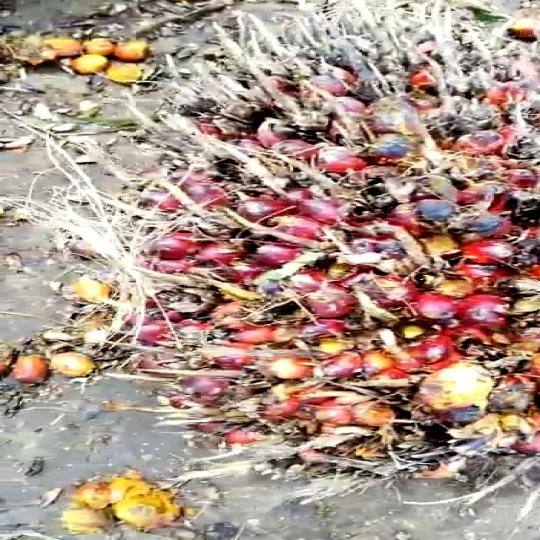masak: (90, 26, 540, 491)
